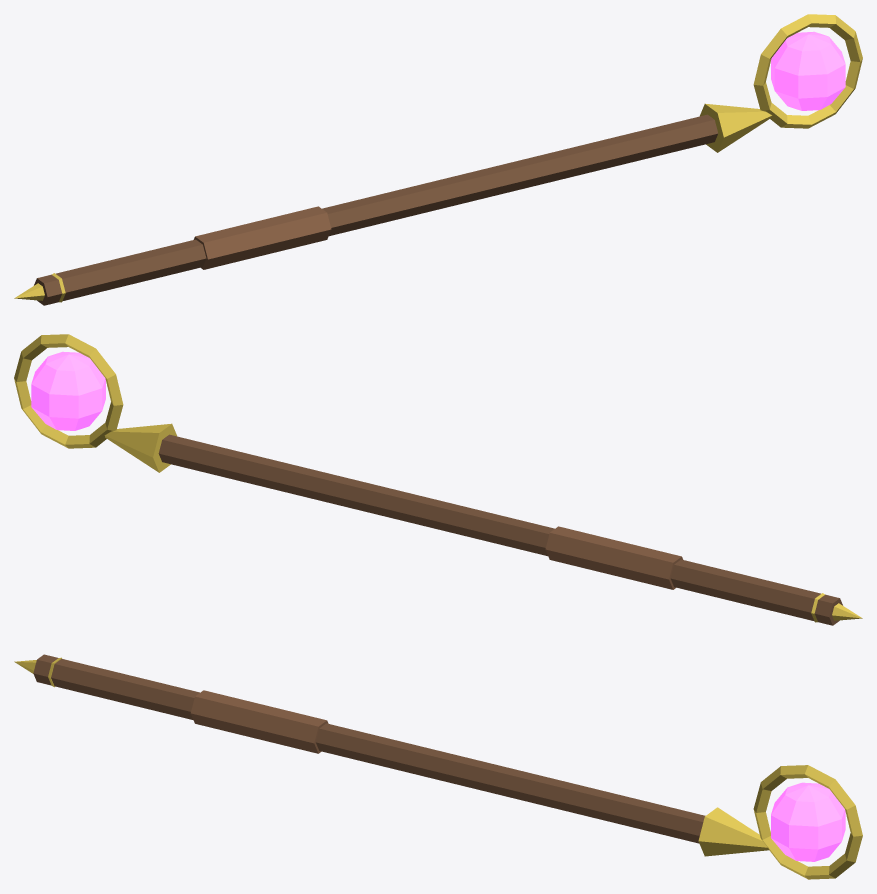
Rendered from long_wizard_staff.glb.
The picture shows the model from 3 angles, top to bottom: view 1: azimuth 30°, elevation 25°; view 2: azimuth 150°, elevation 25°; view 3: azimuth 330°, elevation 25°; orthographic projection.
Parts seen in each view (by area): view 1: long_wizard_staff; view 2: long_wizard_staff; view 3: long_wizard_staff.
Part boxes in pixels (x1=…): long_wizard_staff: x1=14, y1=14, x2=862, y2=305; long_wizard_staff: x1=14, y1=334, x2=862, y2=625; long_wizard_staff: x1=14, y1=654, x2=862, y2=879.
Size of the model in its own units: 0.9 by 0.116 by 0.0712.
